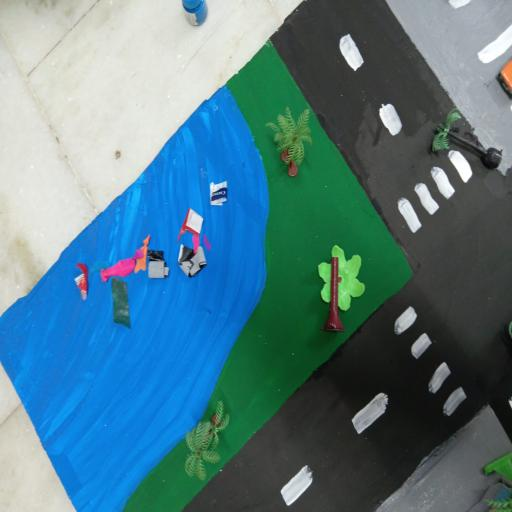fallen trees: (315, 229, 367, 339), (429, 106, 507, 176)
trash: (109, 277, 134, 333), (98, 247, 143, 276), (176, 204, 207, 244), (176, 244, 208, 281), (71, 259, 95, 304), (148, 244, 171, 286), (207, 177, 230, 211), (134, 235, 150, 275)
